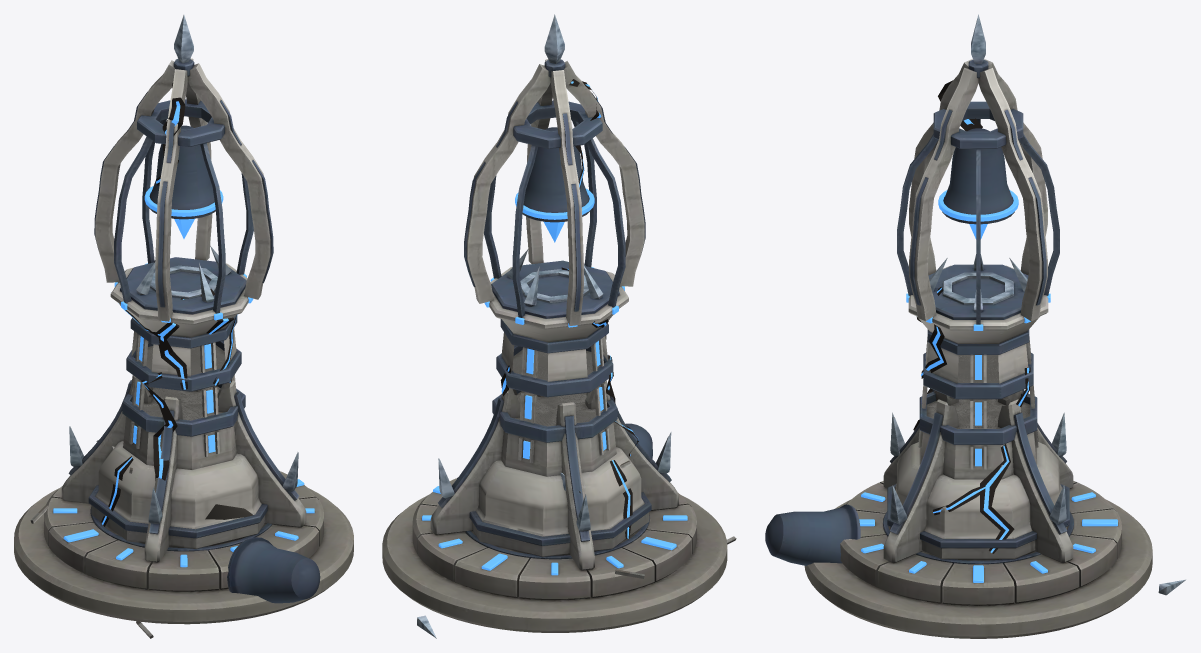
The model's file is needle_bell_aubade.glb.
3 renders of one model, left to right at view 1: azimuth 30°, elevation 25°; view 2: azimuth 150°, elevation 25°; view 3: azimuth 270°, elevation 25°, orthographic. The views are drawn at different scales.
Parts seen in each view (by area): view 1: needle_bell_aubade_upper, needle_bell_aubade_base, needle_bell_aubade_ruin, needle_bell_aubade_dmg1, needle_bell_aubade_glow.001, needle_bell_aubade_chip1, needle_bell_aubade_glow_base, needle_bell_aubade_dmg2; view 2: needle_bell_aubade_upper, needle_bell_aubade_base, needle_bell_aubade_glow.001, needle_bell_aubade_ruin, needle_bell_aubade_glow_base, needle_bell_aubade_dmg1, needle_bell_aubade_chip1; view 3: needle_bell_aubade_upper, needle_bell_aubade_base, needle_bell_aubade_ruin, needle_bell_aubade_dmg1, needle_bell_aubade_glow.001, needle_bell_aubade_glow_base, needle_bell_aubade_chip1.
Part boxes in pixels (<box>): needle_bell_aubade_upper: <box>61,58,306,562</box>; needle_bell_aubade_base: <box>14,471,353,624</box>; needle_bell_aubade_ruin: <box>30,426,320,638</box>; needle_bell_aubade_dmg1: <box>101,298,237,526</box>; needle_bell_aubade_glow.001: <box>114,186,253,452</box>; needle_bell_aubade_chip1: <box>173,15,205,372</box>; needle_bell_aubade_glow_base: <box>53,479,314,567</box>; needle_bell_aubade_dmg2: <box>156,83,234,334</box>; needle_bell_aubade_upper: <box>430,59,678,570</box>; needle_bell_aubade_base: <box>382,477,727,632</box>; needle_bell_aubade_glow.001: <box>484,188,624,459</box>; needle_bell_aubade_ruin: <box>417,423,736,638</box>; needle_bell_aubade_glow_base: <box>422,486,687,575</box>; needle_bell_aubade_dmg1: <box>500,319,638,538</box>; needle_bell_aubade_chip1: <box>521,14,565,375</box>; needle_bell_aubade_upper: <box>883,59,1073,563</box>; needle_bell_aubade_base: <box>804,481,1152,638</box>; needle_bell_aubade_ruin: <box>765,413,1185,595</box>; needle_bell_aubade_dmg1: <box>913,324,1030,553</box>; needle_bell_aubade_glow.001: <box>906,190,1050,466</box>; needle_bell_aubade_glow_base: <box>859,492,1117,582</box>; needle_bell_aubade_chip1: <box>925,14,1031,364</box>.
Bounding box in the file's own units: 2.62 × 4.64 × 3.17.
4 materials, 1 textured.
